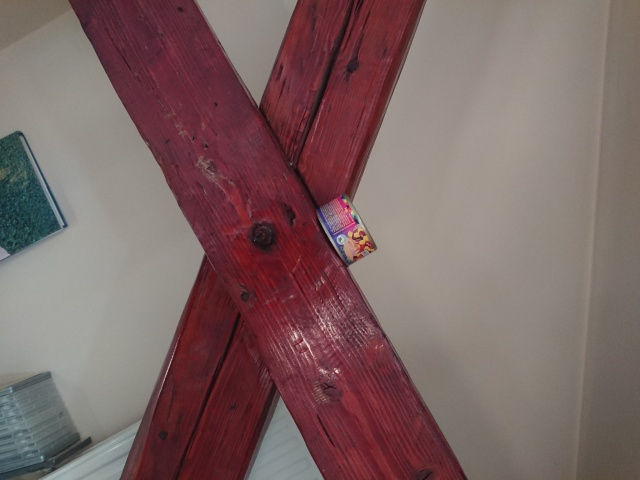Giana Tuna Salad Mexico 185g: (313, 191, 379, 269)
